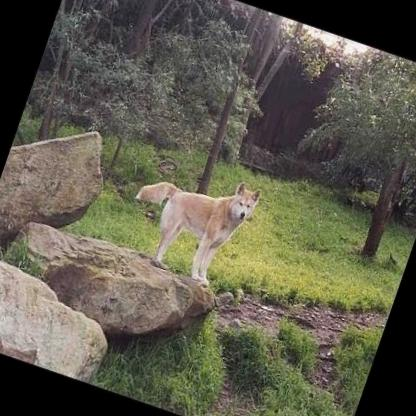dingo: (114, 148, 262, 293)
